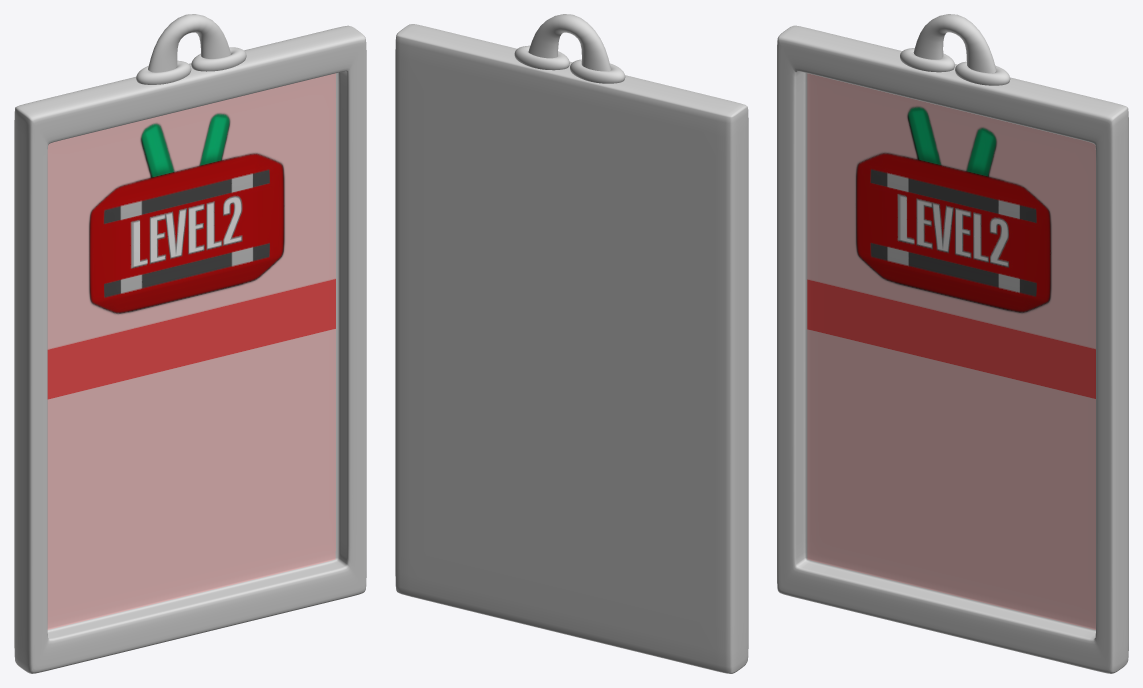
The model's file is Frame-L2.fbx.
The picture shows the model from 3 angles, left to right: view 1: azimuth 30°, elevation 25°; view 2: azimuth 150°, elevation 25°; view 3: azimuth 330°, elevation 25°; orthographic projection.
Parts seen in each view (by area): view 1: Frame1; view 2: Frame1; view 3: Frame1.
Part boxes in pixels (left/top/right/bottom): Frame1: left=14, top=14, right=366, bottom=673; Frame1: left=395, top=14, right=748, bottom=673; Frame1: left=777, top=14, right=1128, bottom=673.
Size of the model in its own units: 11.07 by 19.17 by 1.03.
Materials: 2 (1 with a texture image).
